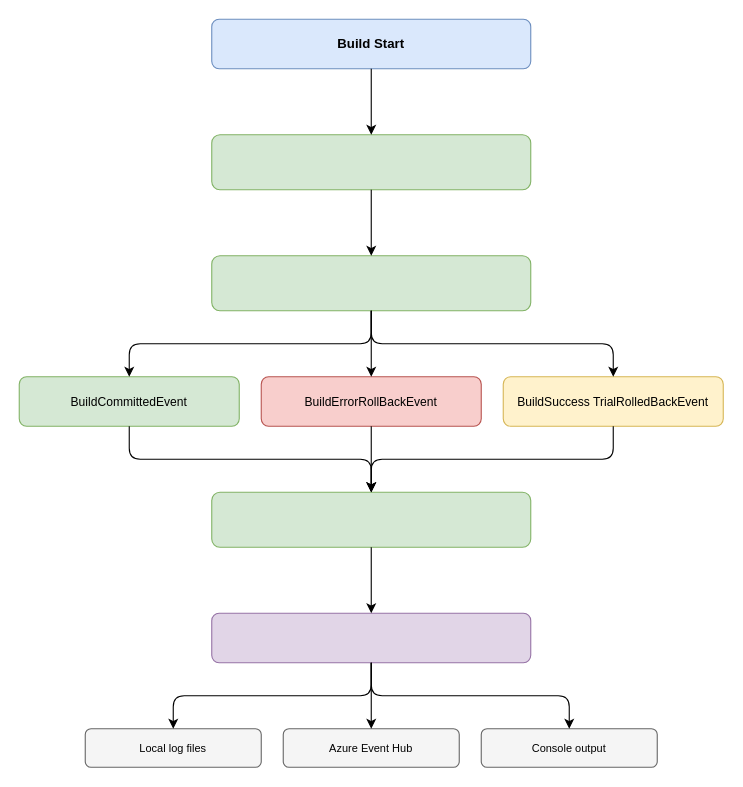
Image size: 743x787. Some labels were removed from this diagram. Each missing label, with the box of its shape:
EventHub submission (if configured): (211, 612, 531, 663)
ScriptLogWriteEvent (per script, if EventHub enabled): (211, 255, 531, 311)
ThreadedLogging.WriteToLog (Commit/Error log): (211, 491, 531, 547)
ThreadedLogging.WriteToLog (Message: "Starting thread"): (211, 134, 531, 190)
